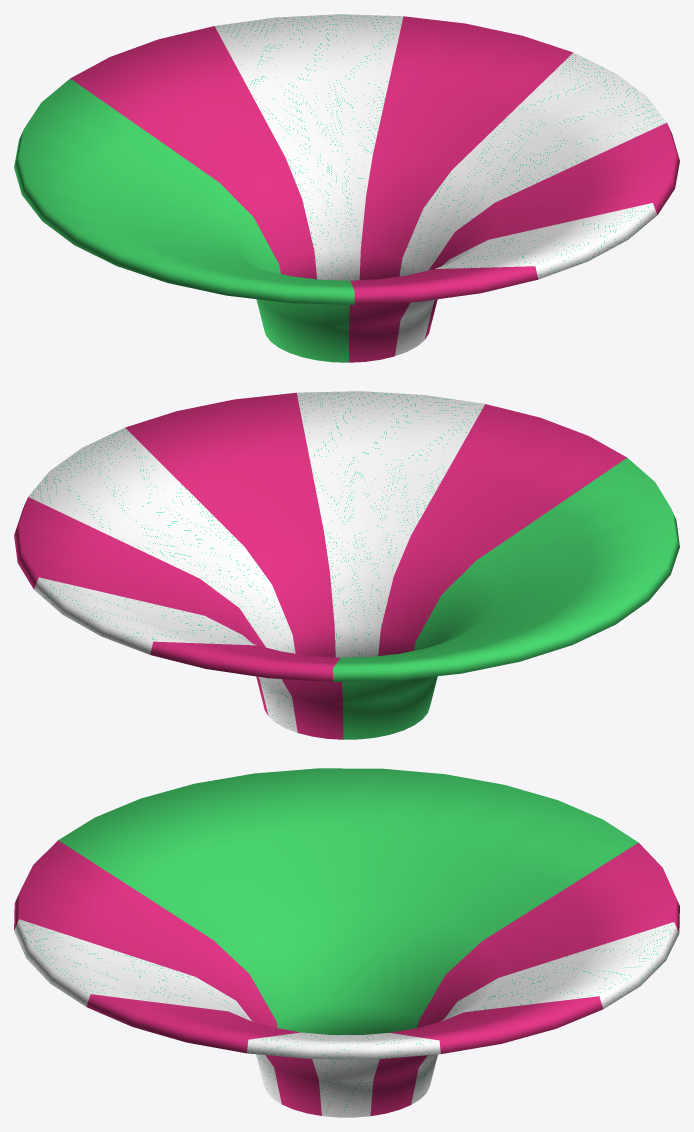
The model's file is Turnip.fbx.
3 views of the same model, one above another, from view 1: azimuth 30°, elevation 25°; view 2: azimuth 150°, elevation 25°; view 3: azimuth 270°, elevation 25° (orthographic).
Parts seen in each view (by area): view 1: Turnip; view 2: Turnip; view 3: Turnip.
Part boxes in pixels (bbox=[...]): Turnip: bbox=[14, 14, 679, 362]; Turnip: bbox=[14, 391, 679, 739]; Turnip: bbox=[14, 768, 679, 1117].
Size of what is drawn, in the model's own units: 96.08 by 96.08 by 27.93.
